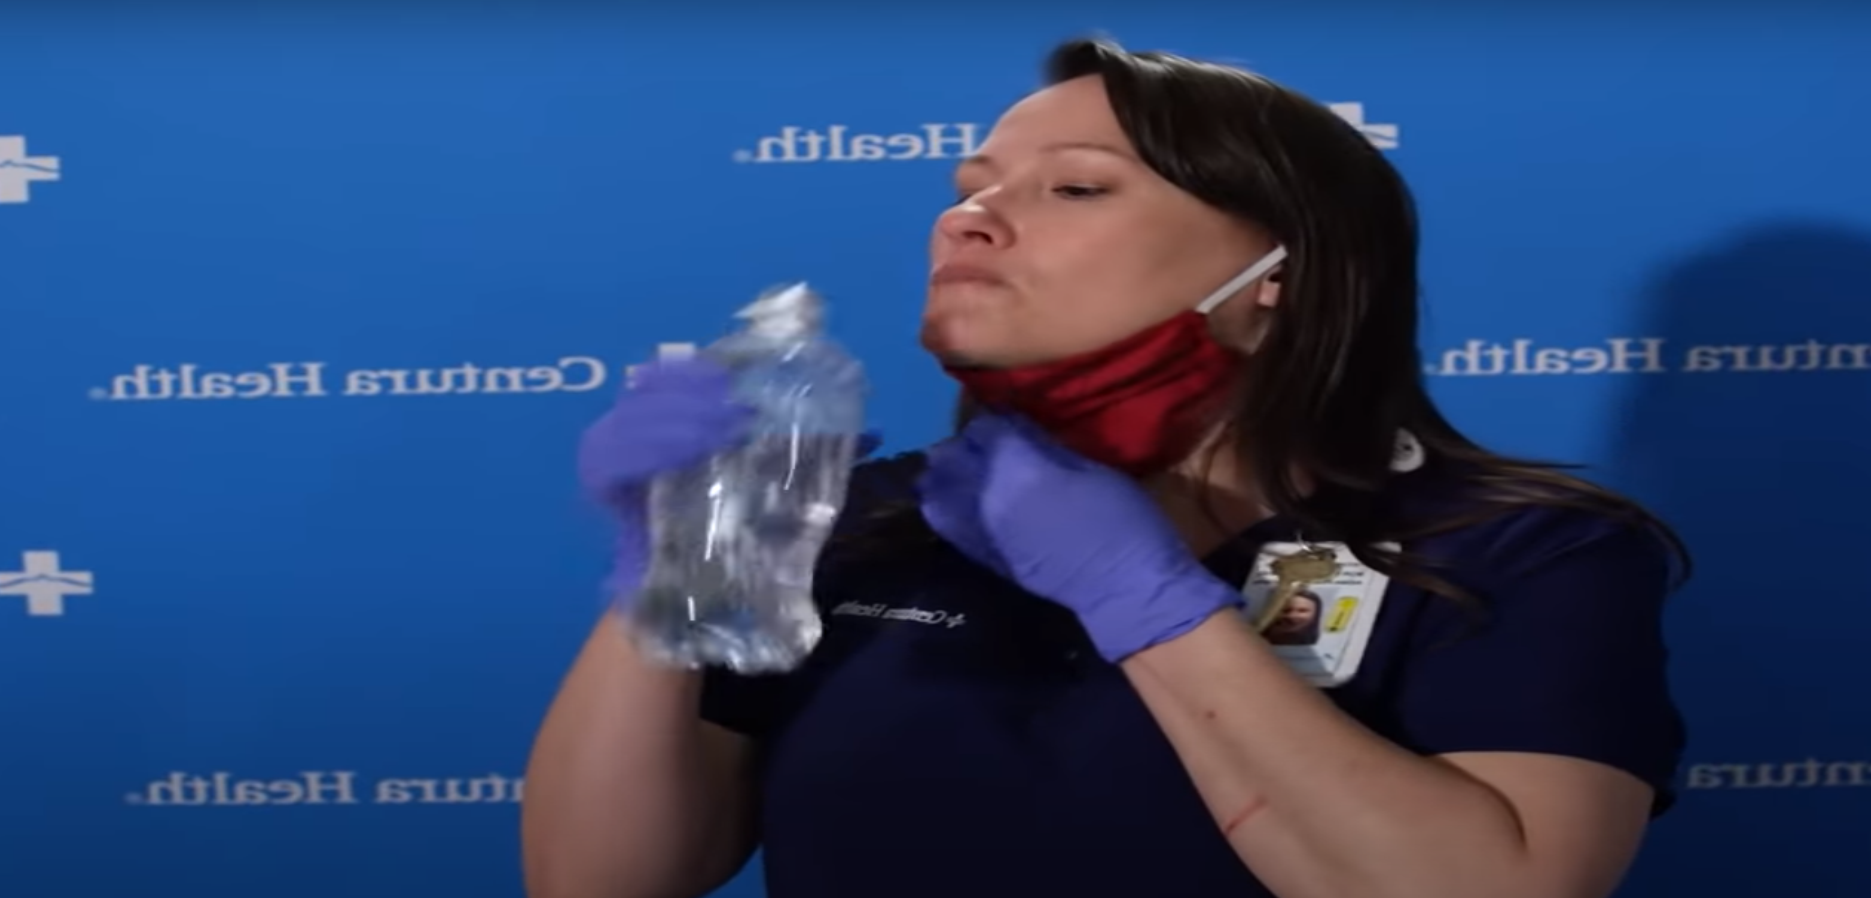mask_weared_incorrect: (918, 40, 1413, 477)
